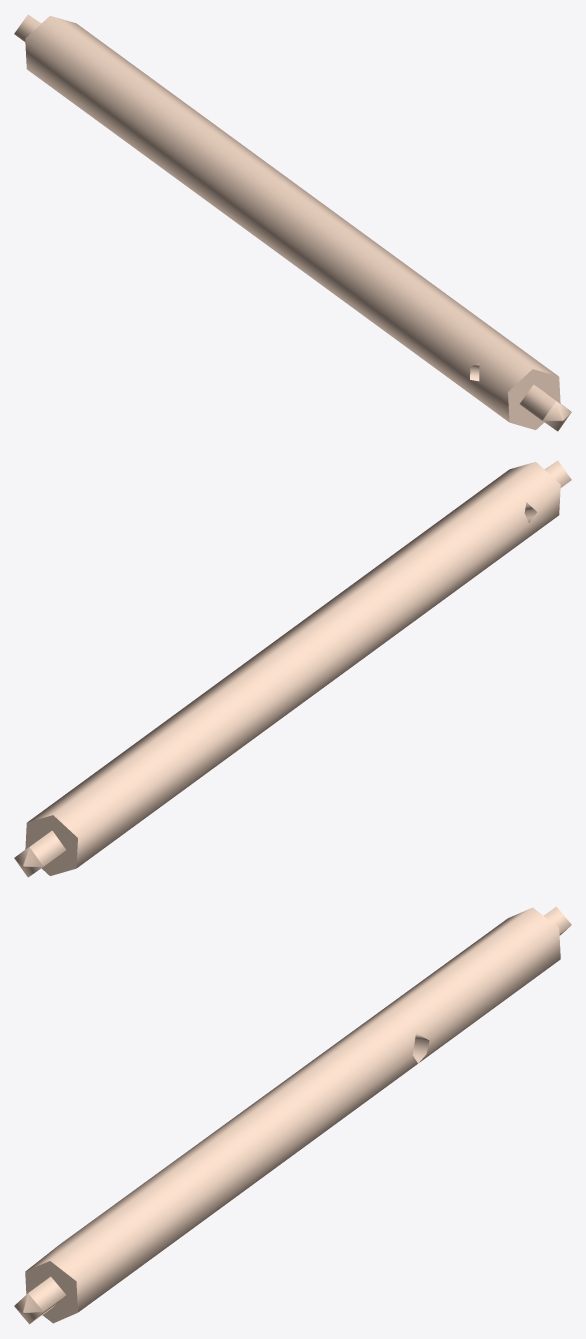
The model's file is Axe detente_Heures.obj.
3 views of the same model, one above another, from view 1: azimuth 30°, elevation 25°; view 2: azimuth 150°, elevation 25°; view 3: azimuth 330°, elevation 25° (orthographic).
Parts seen in each view (by area): view 1: Face_6, Face_7, Face_8; view 2: Face_6, Face_5, Face_4; view 3: Face_6, Face_7, Face_8.
Part boxes in pixels (x1,y1,x2,y2): Face_6: [25, 16, 558, 421]; Face_7: [508, 369, 560, 429]; Face_8: [520, 384, 568, 420]; Face_6: [27, 462, 560, 867]; Face_5: [25, 815, 77, 875]; Face_4: [17, 830, 65, 866]; Face_6: [25, 907, 560, 1312]; Face_7: [25, 1261, 77, 1323]; Face_8: [28, 1276, 65, 1323].
Size of the model in its own units: 0.00599 by 0.00599 by 0.0946.
